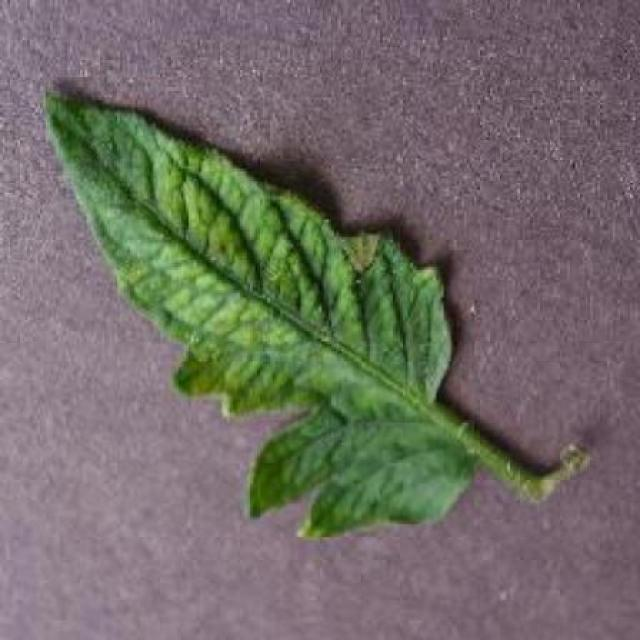Mosaic Virus: (45, 77, 475, 537)
